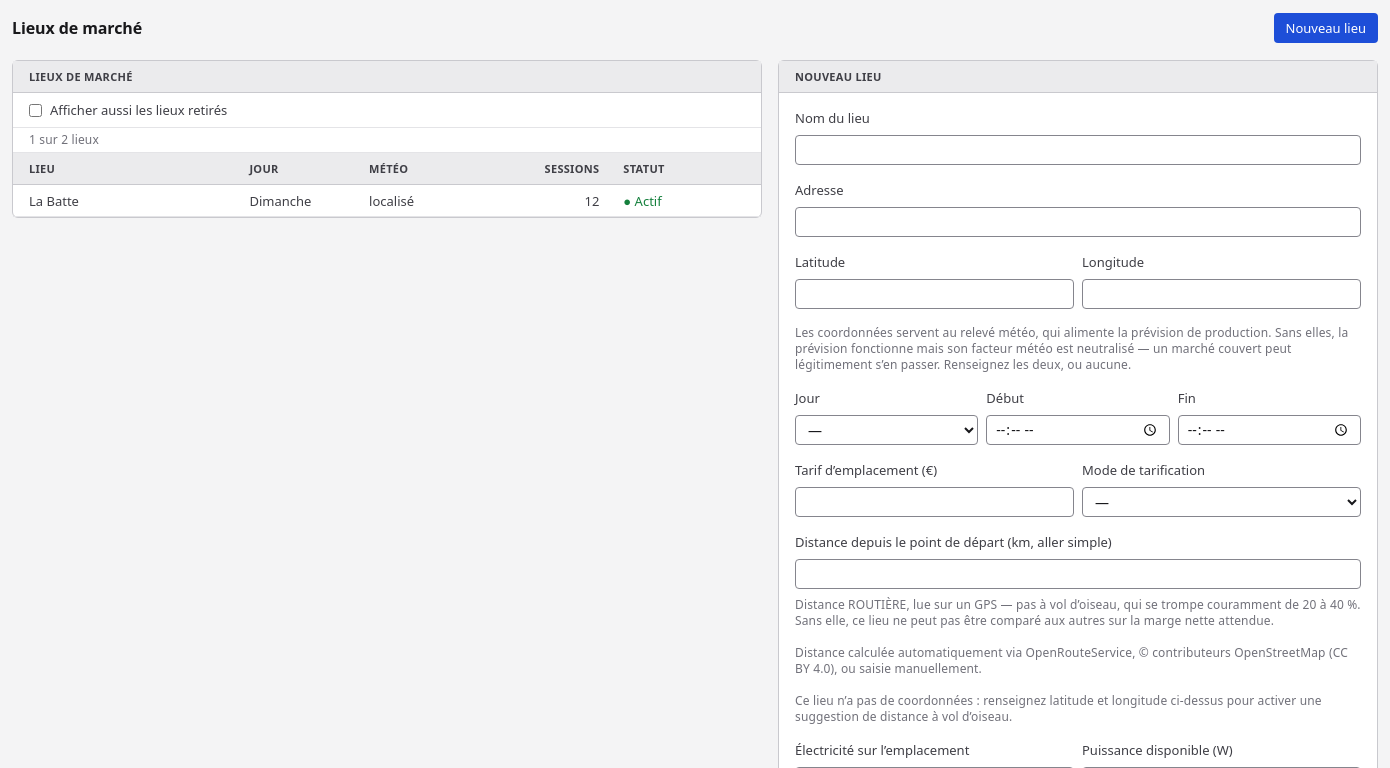
Lieux de marché — chargement, erreur, vide › le compte « visibles sur total » suit le filtre, il ne le contredit pas
The image size is (1390, 768).
Check: the text "1 sur 2 lieux" is shown, box [13, 128, 761, 153]
Step 1. Click the checkbox labelled "Afficher aussi les lieux retirés" → (36, 110), box [29, 104, 42, 116]
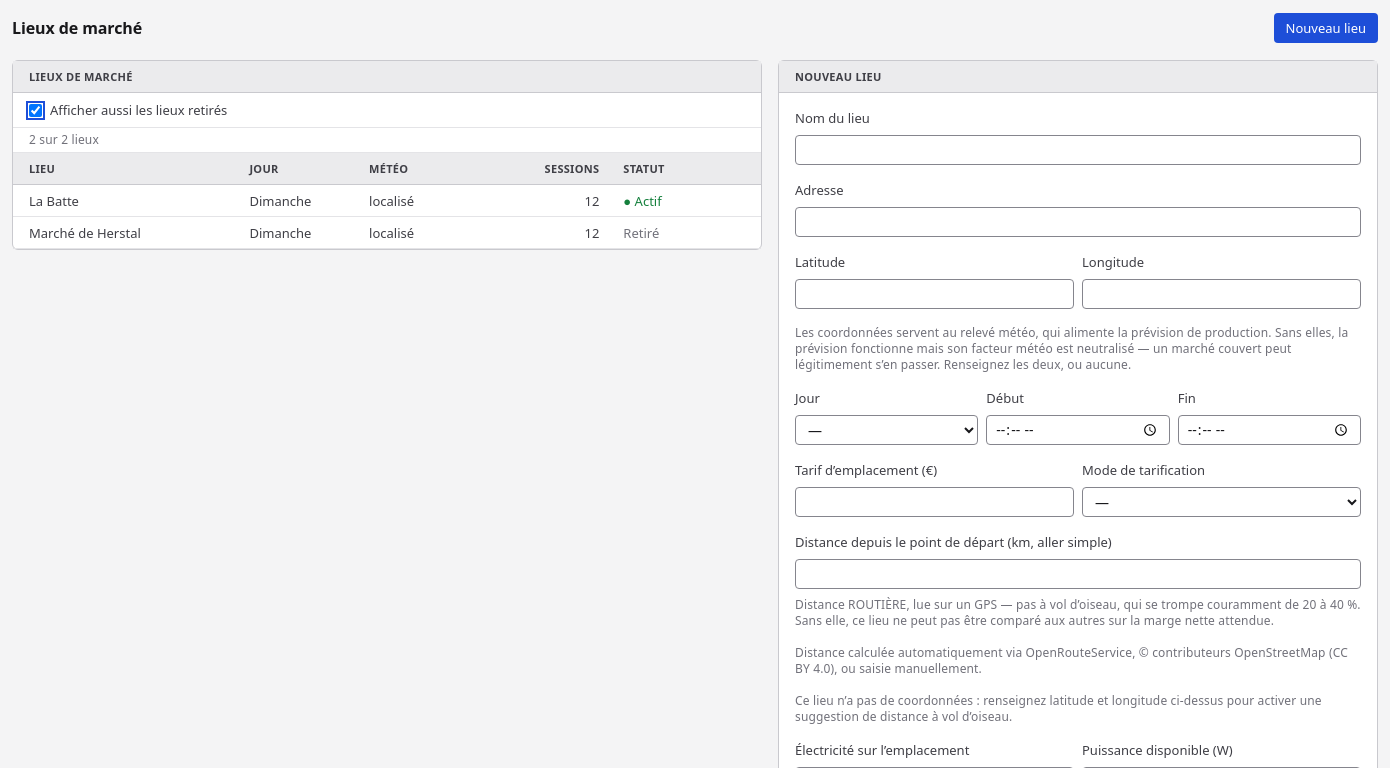
Check: the text "2 sur 2 lieux" is shown, box [13, 128, 761, 153]
